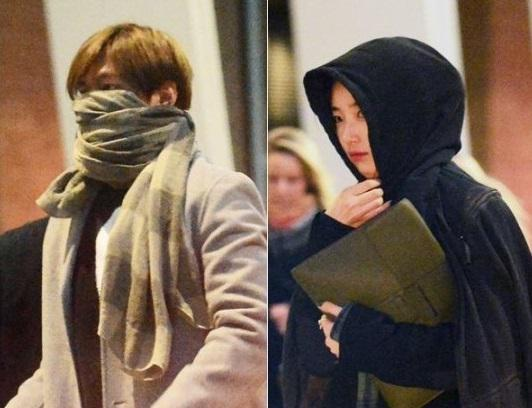NONE: (325, 87, 383, 183), (264, 158, 318, 212)
OK: (73, 66, 144, 148)
